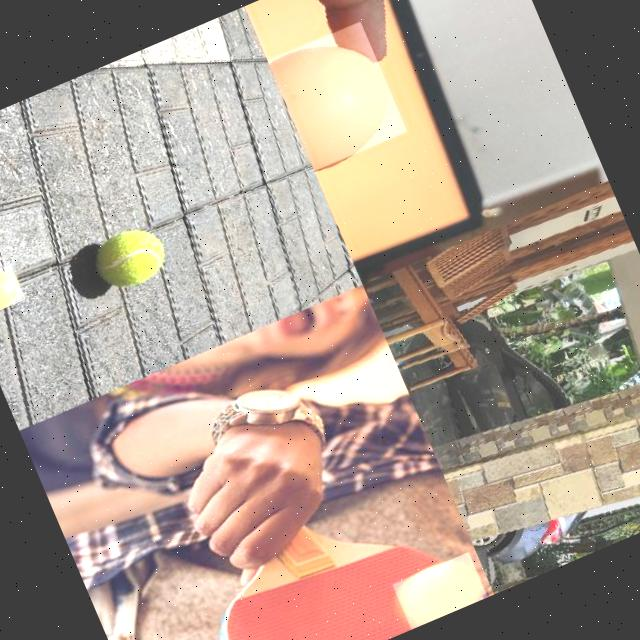ping-pong-ball: (268, 20, 408, 171), (390, 550, 488, 630), (0, 262, 25, 317)
